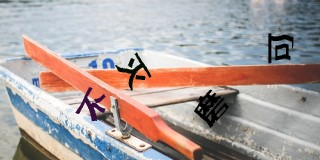不: (74, 87, 107, 122)
可: (266, 31, 294, 64)
灭: (114, 51, 152, 89)
磨: (194, 90, 230, 128)
